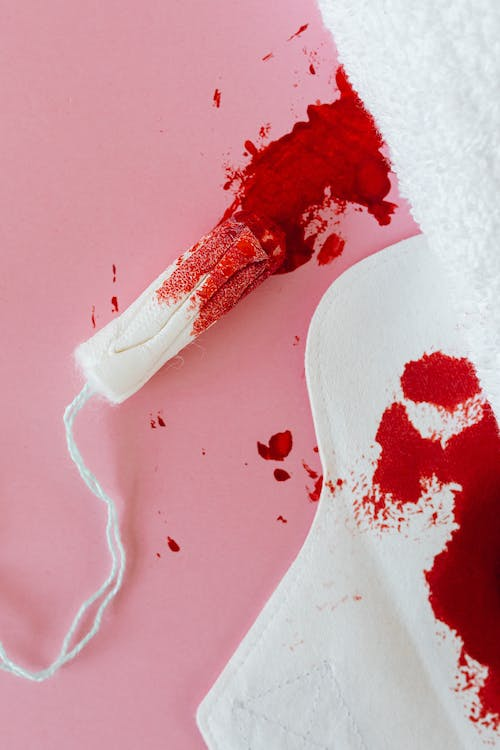blood: (87, 20, 399, 347), (324, 342, 500, 750), (143, 403, 323, 559)
